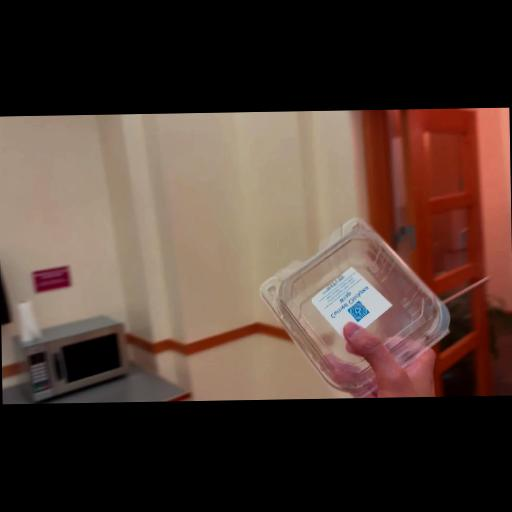small_plastic_container: (258, 218, 454, 398)
